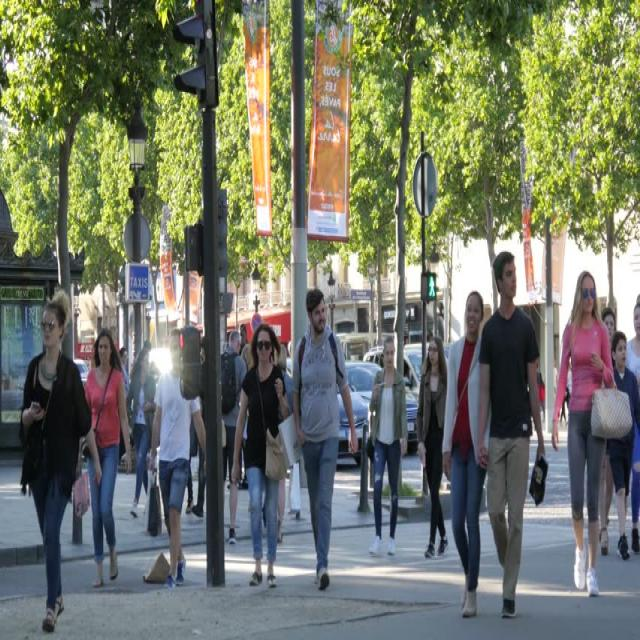body: (130, 317, 262, 551), (472, 247, 548, 624), (19, 288, 101, 633), (550, 268, 618, 599), (290, 285, 361, 595), (229, 320, 304, 592), (440, 287, 493, 620), (147, 327, 208, 590), (83, 327, 132, 589), (364, 332, 409, 560), (604, 329, 640, 562), (415, 332, 450, 561), (124, 347, 158, 520), (214, 328, 248, 495), (519, 346, 585, 430), (598, 306, 617, 558), (623, 291, 640, 557), (272, 342, 294, 546), (239, 342, 255, 482), (118, 344, 131, 401)
